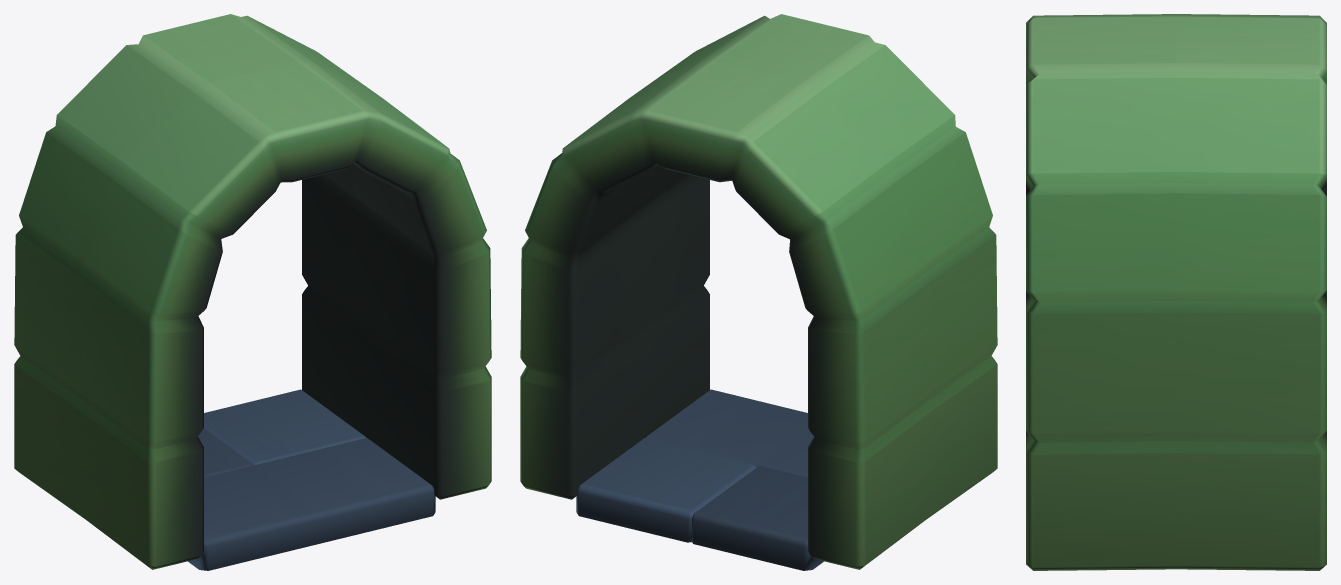
Rendered from doorway_wall_archway.fbx.
The picture shows the model from 3 angles, left to right: view 1: azimuth 30°, elevation 25°; view 2: azimuth 150°, elevation 25°; view 3: azimuth 270°, elevation 25°; orthographic projection. The views are drawn at different scales.
Parts seen in each view (by area): view 1: doorway_wall_archway; view 2: doorway_wall_archway; view 3: doorway_wall_archway.
Boxes of the visible parts, bbox=[...] form: doorway_wall_archway: bbox=[14, 14, 491, 570]; doorway_wall_archway: bbox=[520, 14, 997, 570]; doorway_wall_archway: bbox=[1026, 14, 1326, 570].
Size of the model in its own units: 301 by 353 by 210.
